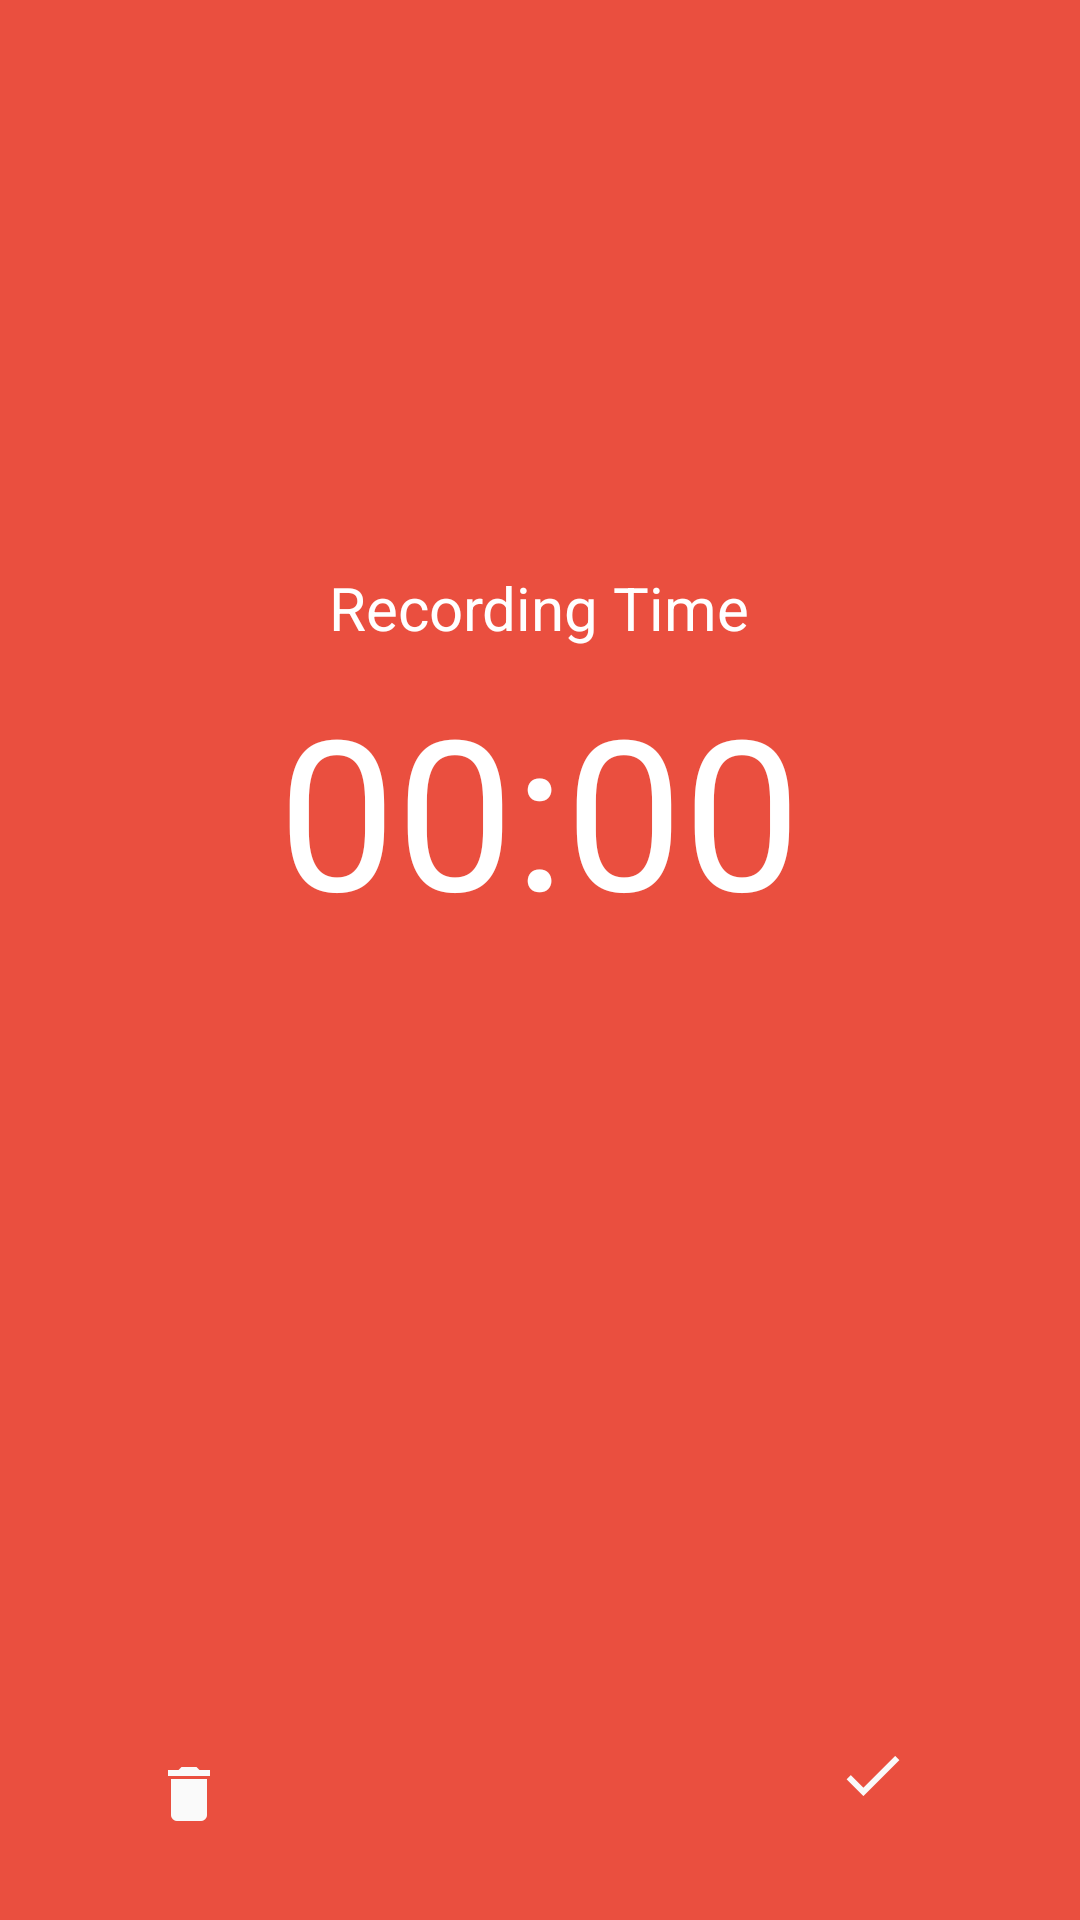

Point at icon controls on the screen. Image size 1080 × 1920, points as (x,y).
check: (872,1776)
delete: (189,1794)
